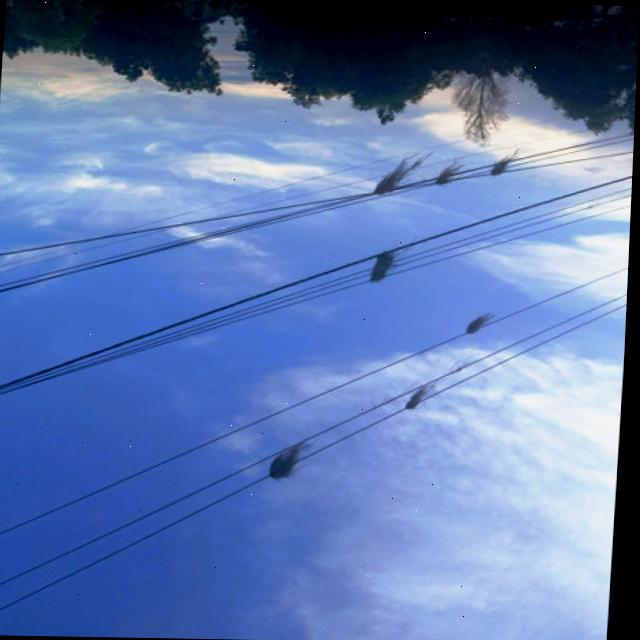obstruction: (264, 433, 320, 485), (363, 149, 421, 196), (362, 241, 409, 289), (399, 373, 444, 416), (458, 308, 500, 340), (432, 155, 469, 187), (491, 148, 523, 178)
wires: (0, 327, 471, 541), (0, 250, 367, 406), (0, 149, 372, 300), (0, 460, 266, 616), (407, 174, 628, 280), (441, 291, 626, 396), (487, 267, 627, 329), (309, 388, 414, 456), (515, 133, 633, 176), (358, 176, 434, 206), (453, 160, 491, 187)
